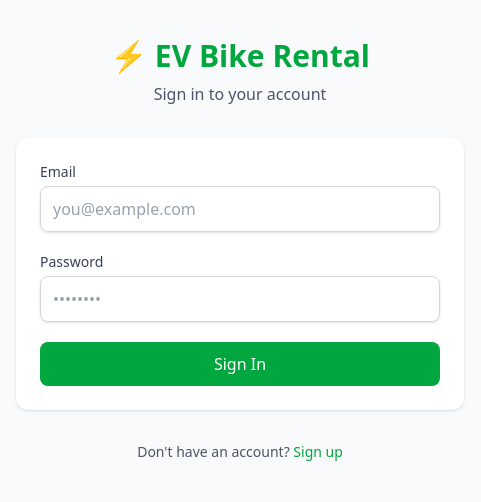
Login Page › validates email is required
This screenshot has width=481, height=502.
Click the button "Sign In". click: (240, 364)
box: 40,342 -> 440,386
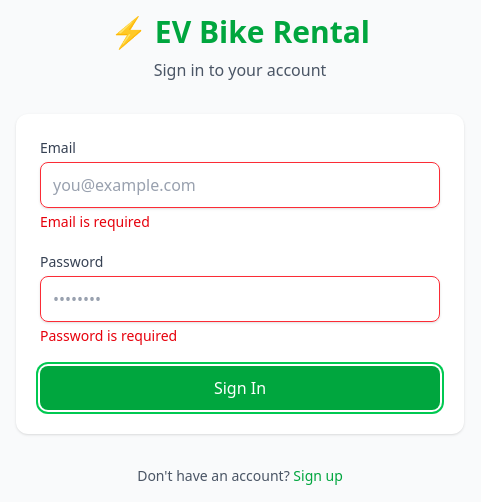
Expected: the text "Email is required" is shown, 40,212 -> 150,231
